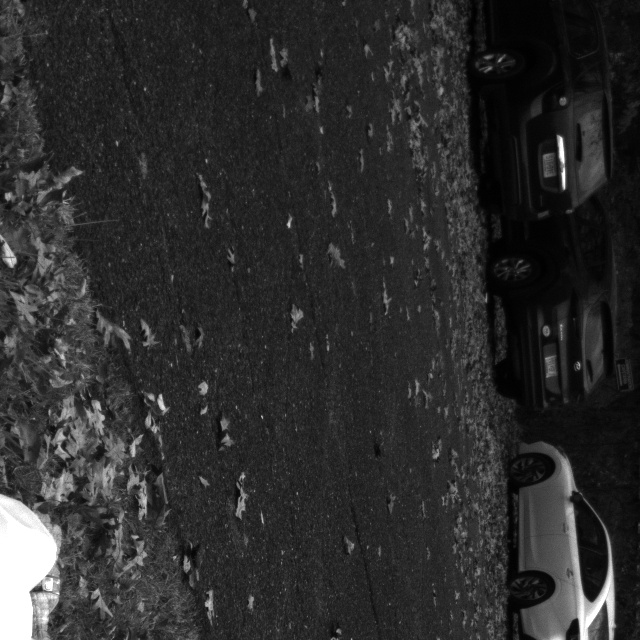bottle: (29, 535, 69, 639)
can: (0, 488, 59, 593)
